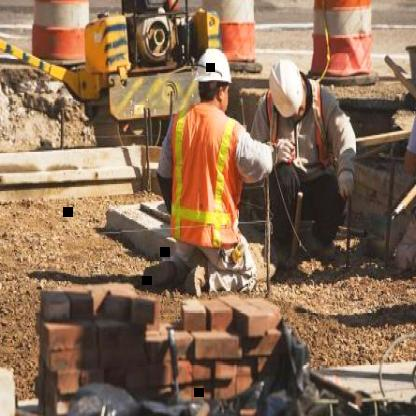helmet: (266, 58, 306, 122), (191, 49, 233, 87)
